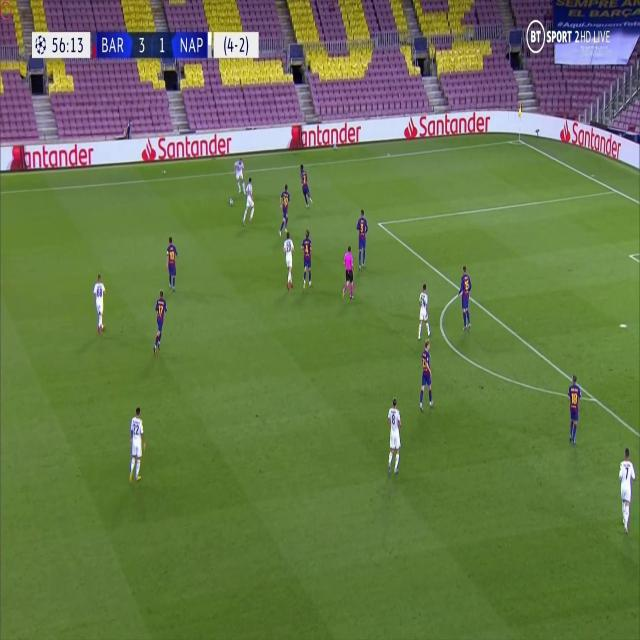ball: (228, 196, 234, 206)
player: (616, 444, 636, 537), (127, 402, 146, 486), (385, 392, 403, 478), (418, 337, 434, 415), (566, 370, 582, 447), (91, 270, 107, 336), (458, 262, 473, 332), (152, 288, 168, 352), (416, 281, 432, 341), (354, 206, 369, 270), (299, 227, 314, 289), (341, 242, 355, 302), (164, 234, 178, 293), (282, 229, 295, 291), (278, 181, 292, 236), (242, 176, 256, 228), (298, 162, 312, 210), (233, 157, 245, 193)
